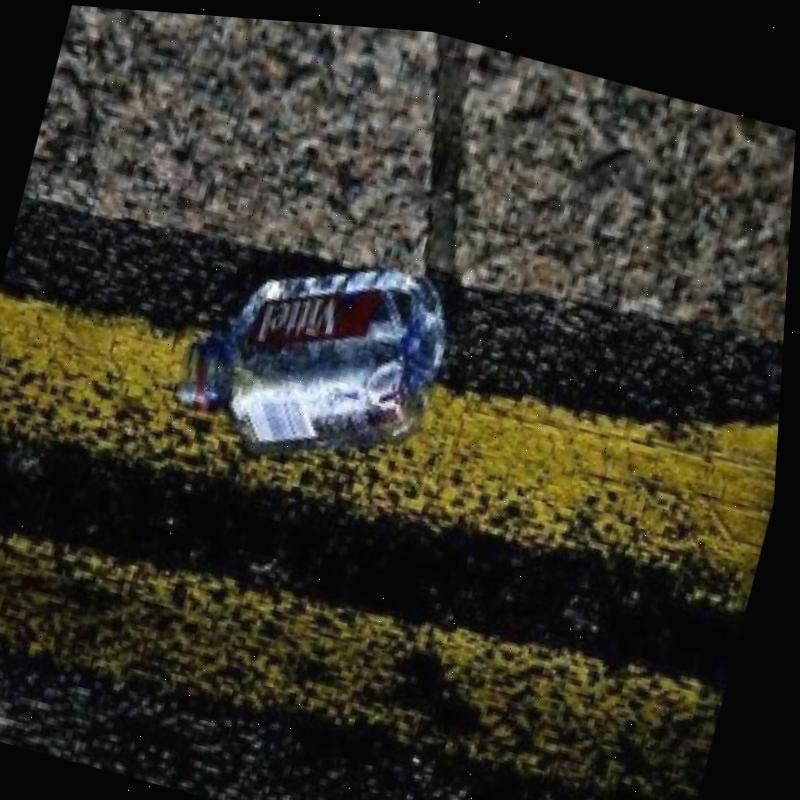botella: (165, 215, 466, 483)
